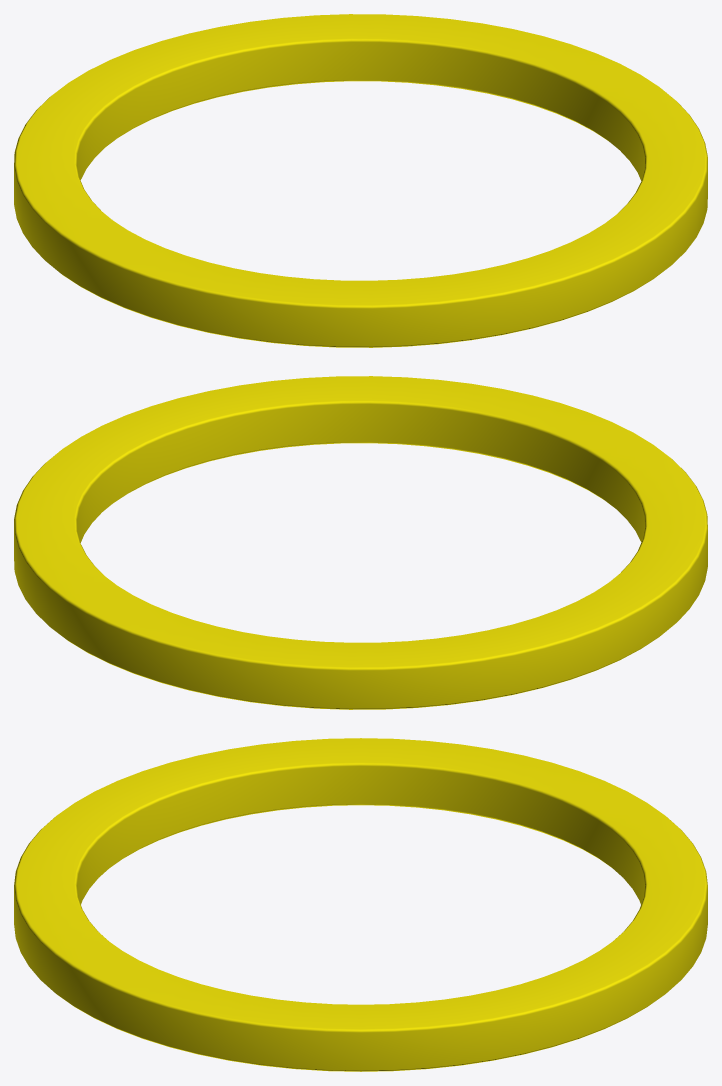
3 views of the same model, one above another, from view 1: azimuth 30°, elevation 25°; view 2: azimuth 150°, elevation 25°; view 3: azimuth 270°, elevation 25° (orthographic).
Parts seen in each view (by area): view 1: seal_body; view 2: seal_body; view 3: seal_body.
Boxes of the visible parts, x1,y1,x2,y2 form: seal_body: (14,14,707,347); seal_body: (14,376,707,709); seal_body: (14,738,707,1071).
Size of the model in its own units: 0.0388 by 0.00264 by 0.0388.
